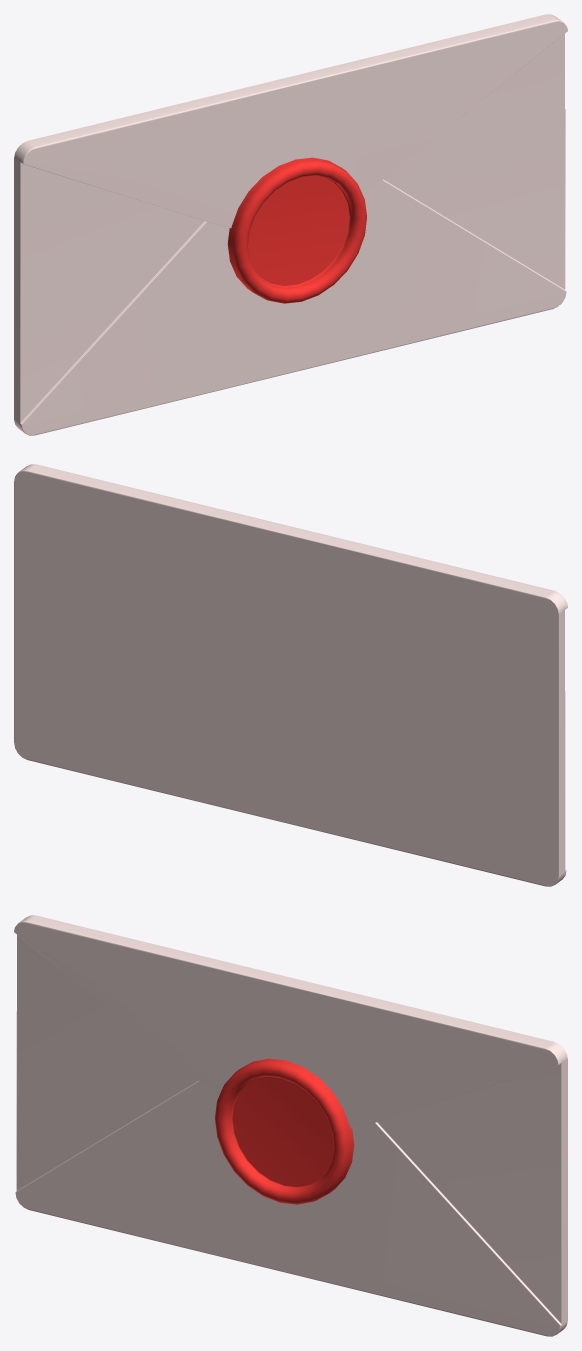
The model's file is Public_6_Letter_3.glb.
3 views of the same model, one above another, from view 1: azimuth 30°, elevation 25°; view 2: azimuth 150°, elevation 25°; view 3: azimuth 330°, elevation 25° (orthographic).
Visible parts, largest first — view 1: Public_6_Letter_3; view 2: Public_6_Letter_3; view 3: Public_6_Letter_3.
Boxes of the visible parts, <box> form: Public_6_Letter_3: <box>14,14,567,435</box>; Public_6_Letter_3: <box>14,464,567,886</box>; Public_6_Letter_3: <box>14,915,567,1336</box>.
Size of the model in its own units: 4.16 by 2.11 by 0.2234.
1 material, 1 textured.
